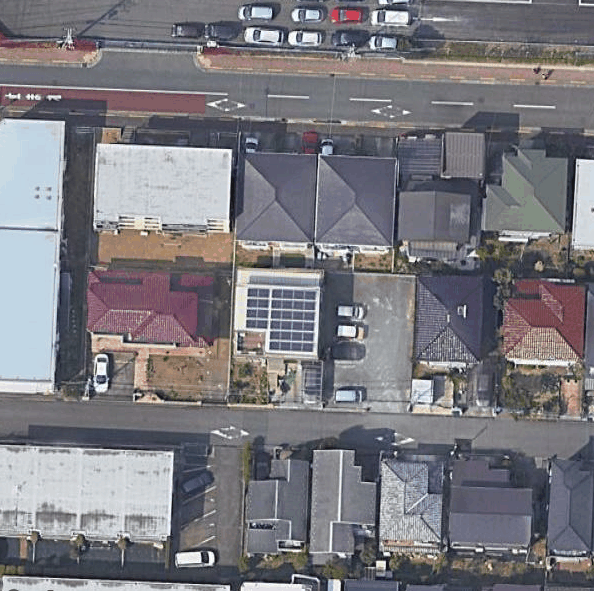flatroof: (0, 118, 66, 383), (86, 140, 235, 231)
solarpanel_flat: (240, 284, 325, 358)
